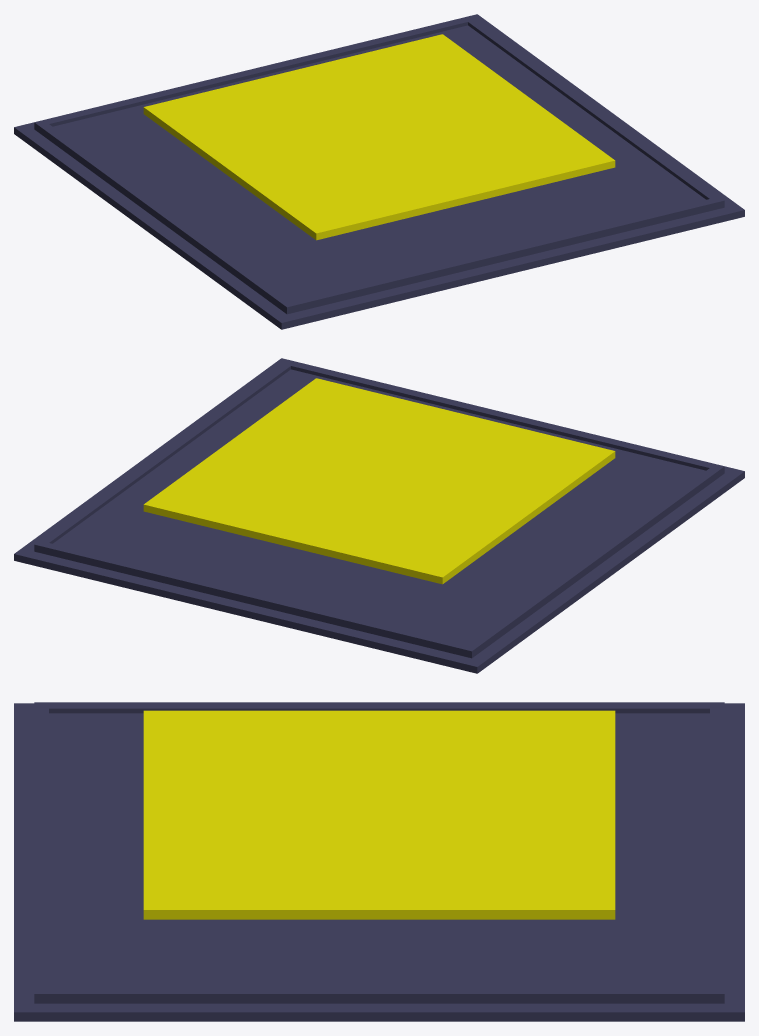
Rendered from LP_GPE_GroundButton.fbx.
The picture shows the model from 3 angles, top to bottom: view 1: azimuth 30°, elevation 25°; view 2: azimuth 150°, elevation 25°; view 3: azimuth 270°, elevation 25°; orthographic projection. The views are drawn at different scales.
Visible parts, largest first — view 1: LP_GPE_GroundButtonBase, LP_GPE_GroundButton; view 2: LP_GPE_GroundButtonBase, LP_GPE_GroundButton; view 3: LP_GPE_GroundButtonBase, LP_GPE_GroundButton.
Boxes of the visible parts, box(x1,y1,x2,y2) form: LP_GPE_GroundButtonBase: box(14, 14, 744, 329); LP_GPE_GroundButton: box(143, 34, 615, 240); LP_GPE_GroundButtonBase: box(14, 358, 744, 673); LP_GPE_GroundButton: box(143, 378, 615, 584); LP_GPE_GroundButtonBase: box(14, 702, 744, 1021); LP_GPE_GroundButton: box(143, 710, 615, 919).
Size of the model in its own units: 280 by 24 by 280.
